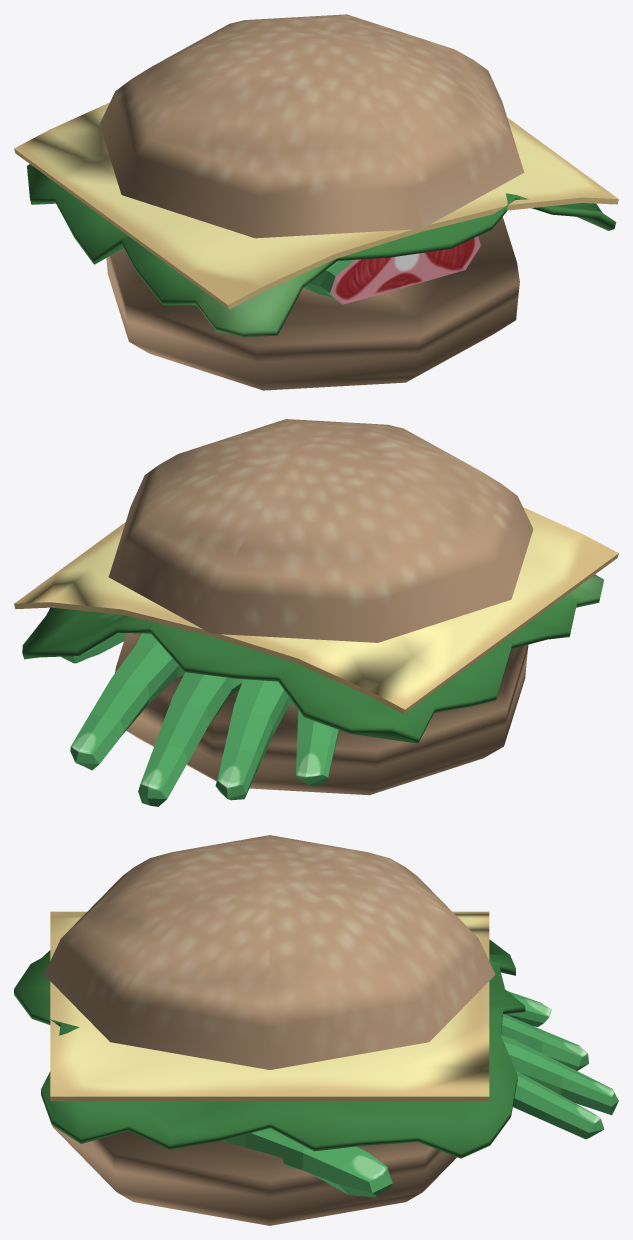
File: Recipe_Handburger_v03.fbx
The picture shows the model from 3 angles, top to bottom: view 1: azimuth 30°, elevation 25°; view 2: azimuth 150°, elevation 25°; view 3: azimuth 270°, elevation 25°; orthographic projection. The views are drawn at different scales.
Visible parts, largest first — view 1: bun_bot, bun_top, TOP_Cheese, TOP_Lettuce, retopoHand; view 2: bun_bot, TOP_Cheese, retopoHand, TOP_Lettuce, bun_top; view 3: bun_bot, TOP_Cheese, TOP_Lettuce, bun_top, retopoHand.
Part boxes in pixels (x1=…): bun_bot: x1=99, y1=14, x2=524, y2=238; bun_top: x1=106, y1=216, x2=519, y2=390; TOP_Cheese: x1=14, y1=102, x2=618, y2=309; TOP_Lettuce: x1=27, y1=164, x2=616, y2=337; retopoHand: x1=303, y1=236, x2=480, y2=304; bun_bot: x1=108, y1=419, x2=533, y2=642; TOP_Cheese: x1=14, y1=507, x2=618, y2=714; retopoHand: x1=61, y1=632, x2=339, y2=806; TOP_Lettuce: x1=22, y1=574, x2=603, y2=743; bun_top: x1=115, y1=633, x2=528, y2=795; bun_bot: x1=44, y1=835, x2=495, y2=1069; TOP_Cheese: x1=50, y1=911, x2=489, y2=1101; TOP_Lettuce: x1=14, y1=939, x2=525, y2=1158; bun_top: x1=52, y1=1126, x2=456, y2=1225; retopoHand: x1=222, y1=991, x2=618, y2=1197.
Bounding box in the file's own units: 33.51 × 21.07 × 40.31.
